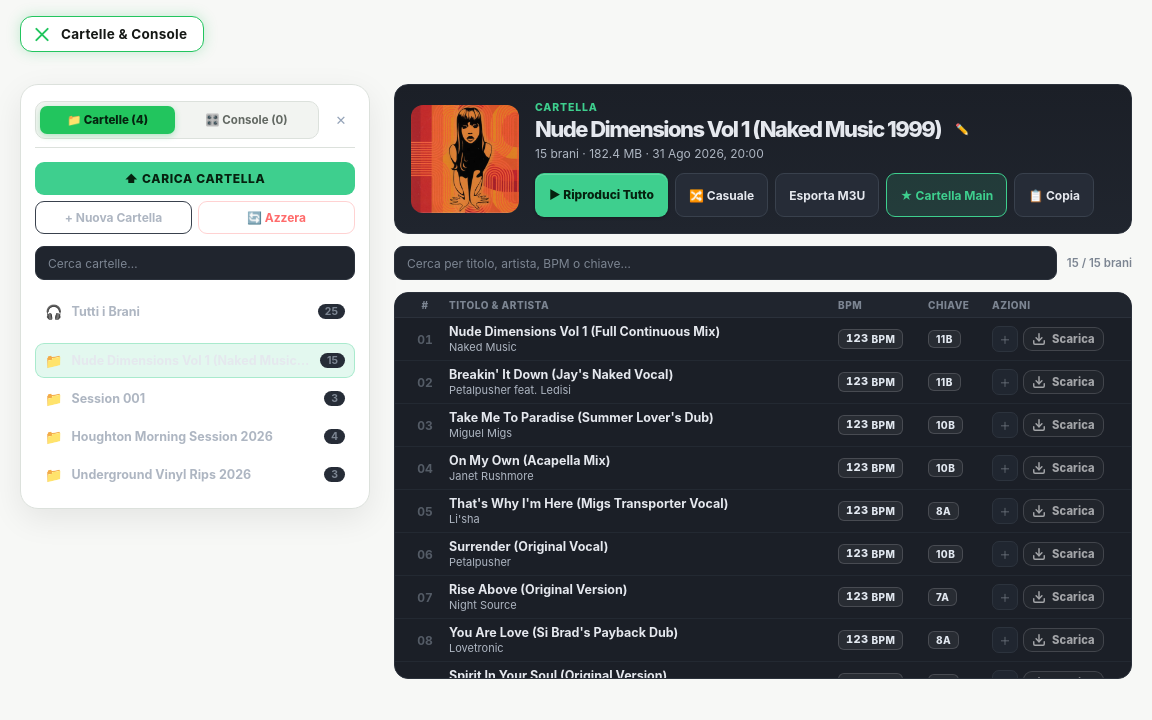
Test case: FolderIngestionHub › mostra le tracce e i metadati quando si clicca su una cartella
Click the text "Houghton Morning Session 2026": (172, 436) x1=72 y1=429 x2=273 y2=444
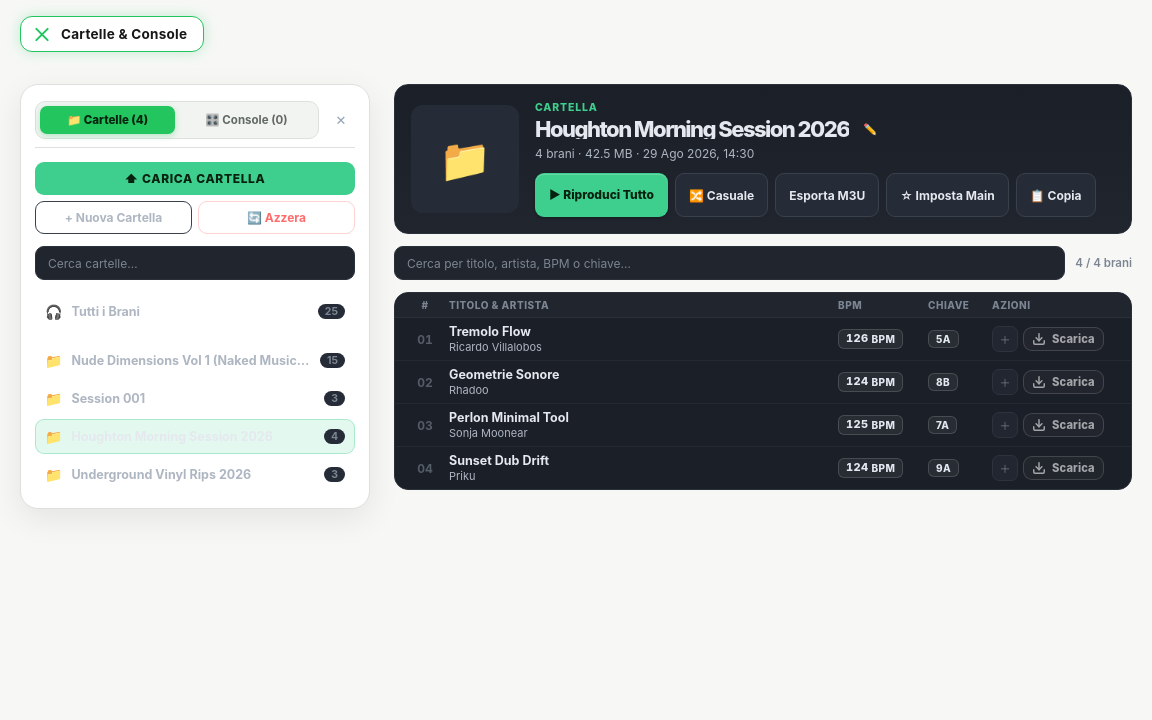
Now the text "Tremolo Flow" is shown, box x1=449 y1=324 x2=531 y2=339
Now the text "Ricardo Villalobos" is shown, box x1=449 y1=340 x2=542 y2=354
Now the text "126" is shown, box x1=846 y1=332 x2=868 y2=346
